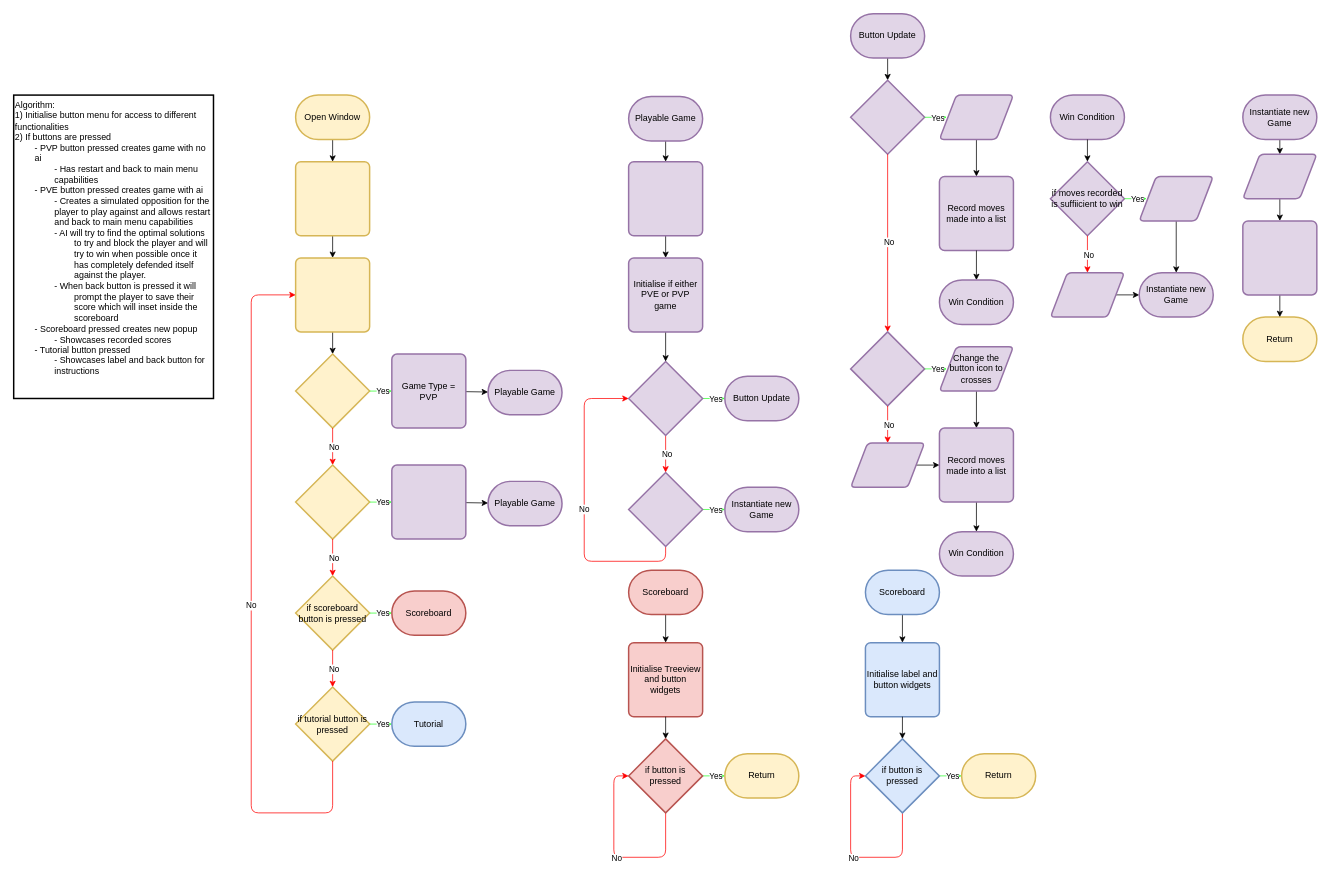
This 1330x876 diagram has some shape labels left out. Here are the shapes that lost their labels. From the top down, the centre of each, then its label:
point (887, 117): if PVE
point (976, 117): Calculate defensive move from "o"s
point (1279, 176): Reset Game 3x3 Grid deleting all buttons
point (332, 198): Initialise custom theme / styles
point (665, 198): Initialise Widgets: Score Labels, Game main frame, restart button
point (1176, 198): Add to respective score
point (1279, 257): Record score after reset as global variables
point (332, 294): Open Main Tkinter Menu (Game Buttons / Title)
point (1087, 294): Add to tie system since no more moves left with no winner
point (887, 368): if the turn is in favour of crosses
point (332, 390): if PVP button is pressed
point (665, 398): if any button is pressed in the 3x3 grid
point (887, 465): Change the button icon to circles
point (332, 501): if PVE button is pressed
point (428, 501): Game Type = PVE
point (665, 509): if the restart button is pressed
